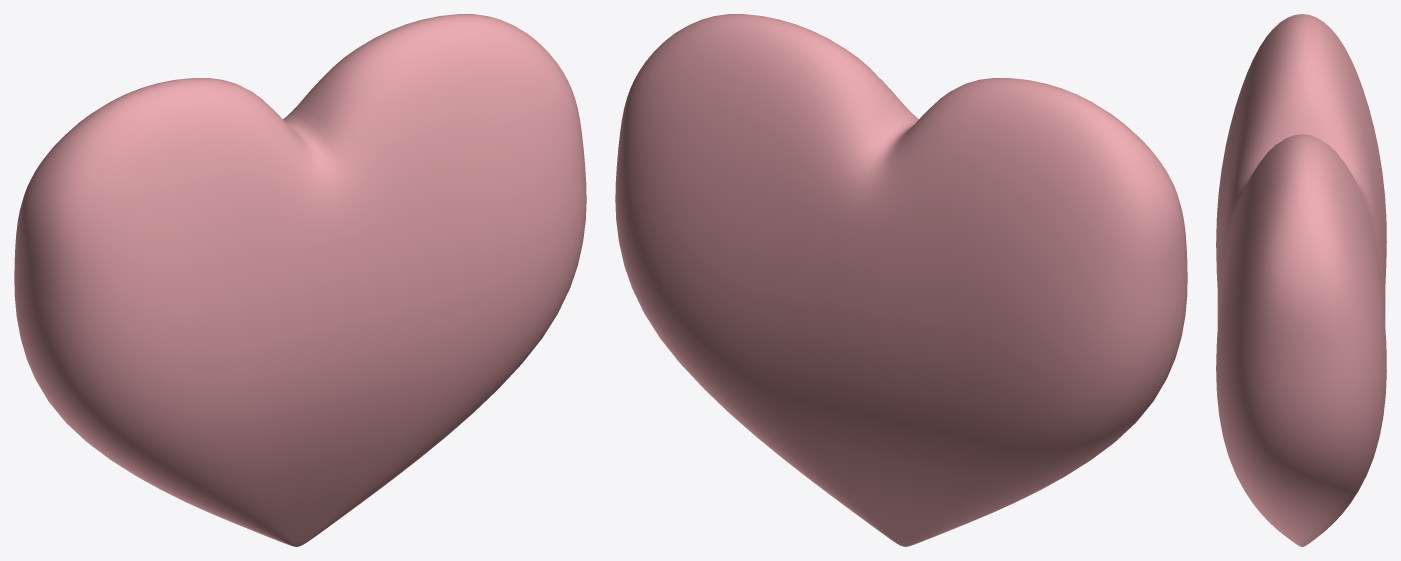
Rendered from heart.glb.
The picture shows the model from 3 angles, left to right: view 1: azimuth 30°, elevation 25°; view 2: azimuth 150°, elevation 25°; view 3: azimuth 270°, elevation 25°; orthographic projection. The views are drawn at different scales.
Parts seen in each view (by area): view 1: 立方体; view 2: 立方体; view 3: 立方体.
Part boxes in pixels (left/top/right/bottom): 立方体: left=14, top=14, right=586, bottom=546; 立方体: left=615, top=14, right=1187, bottom=546; 立方体: left=1216, top=14, right=1386, bottom=546.
Bounding box in the file's own units: 3.64 × 3.14 × 1.06.
